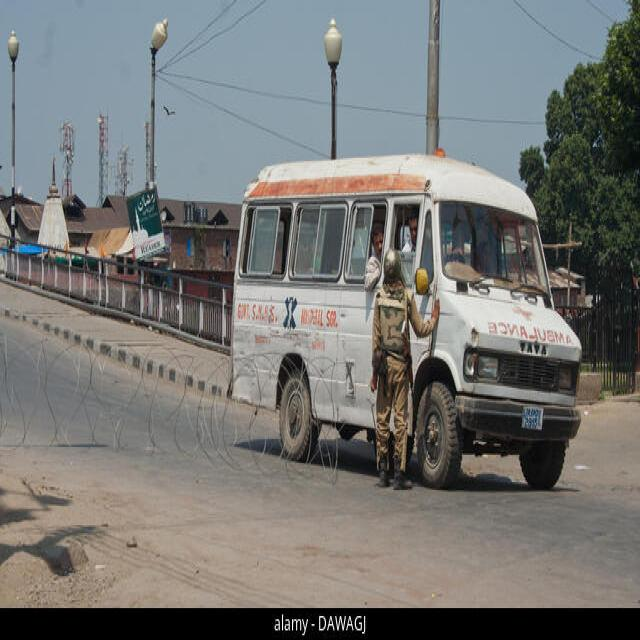emergency: (230, 154, 580, 489)
